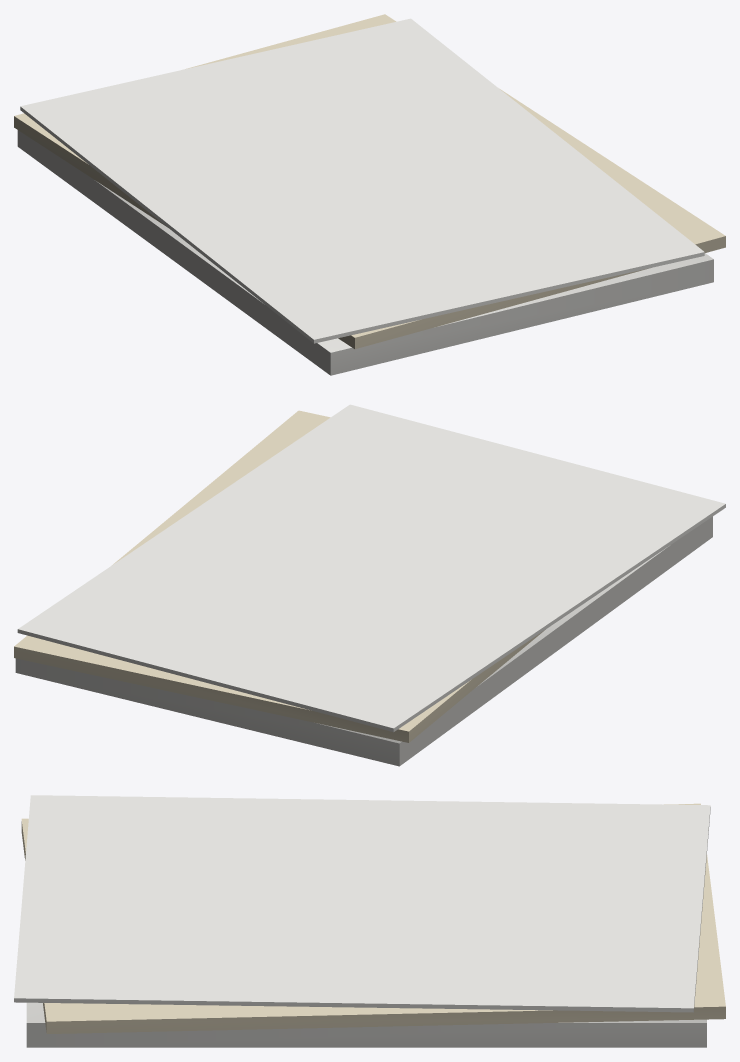
The model's file is paper_stack_01.glb.
The picture shows the model from 3 angles, top to bottom: view 1: azimuth 30°, elevation 25°; view 2: azimuth 150°, elevation 25°; view 3: azimuth 270°, elevation 25°; orthographic projection. The views are drawn at different scales.
Visible parts, largest first — view 1: paper_stack_01_mesh; view 2: paper_stack_01_mesh; view 3: paper_stack_01_mesh.
Boxes of the visible parts, bbox=[...] form: paper_stack_01_mesh: bbox=[14, 14, 725, 375]; paper_stack_01_mesh: bbox=[14, 404, 725, 766]; paper_stack_01_mesh: bbox=[14, 795, 725, 1047].
Size of the model in its own units: 0.2297 by 0.02 by 0.3109.
Materials: 1 (1 with a texture image).
